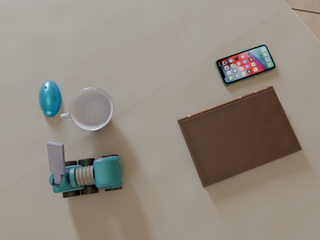book: (178, 86, 302, 187)
cup: (61, 88, 114, 131)
mouse: (39, 80, 61, 117)
phone: (215, 45, 275, 85)
toy_car: (47, 141, 124, 198)
